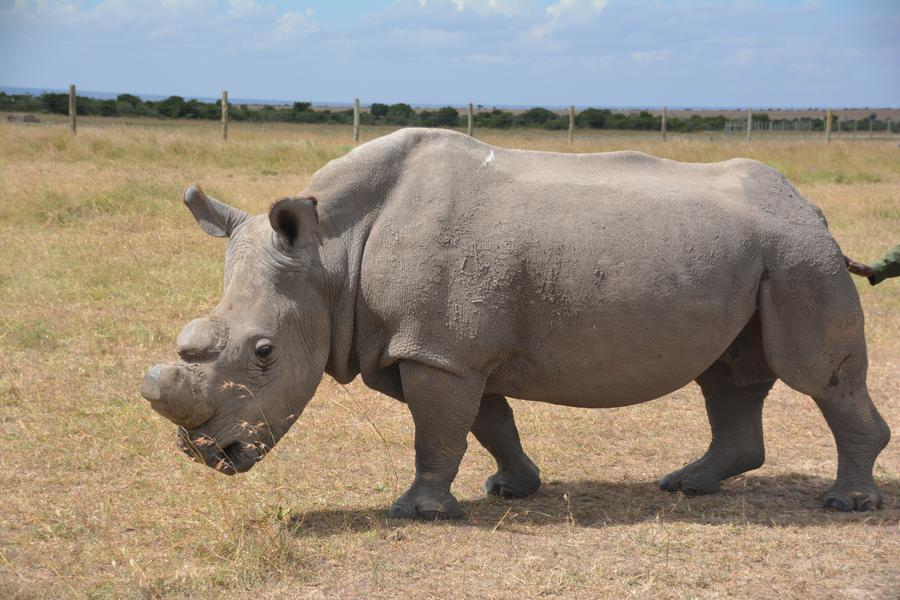rhino: (156, 119, 850, 518)
